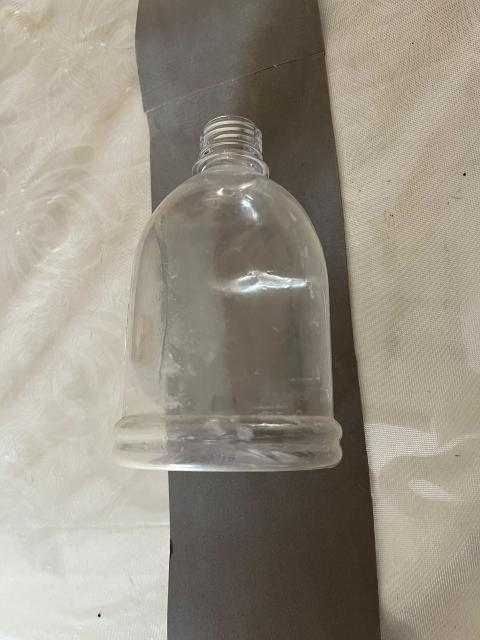PET: (101, 95, 374, 492)
